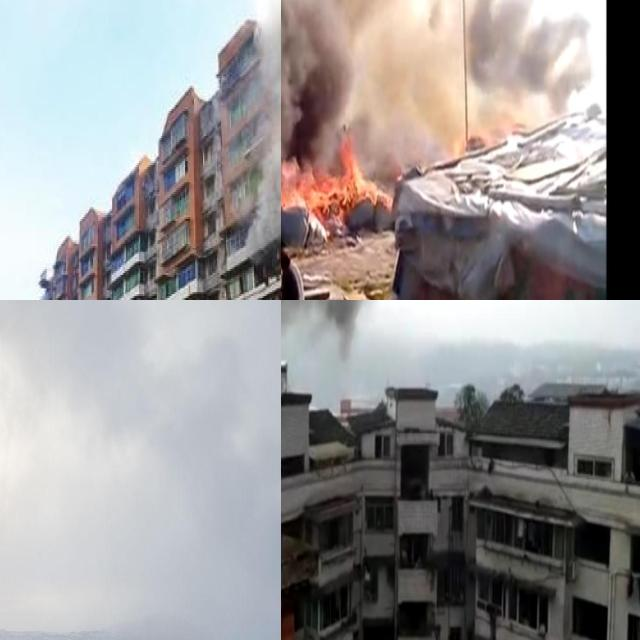fire: (281, 141, 393, 250)
smoke: (281, 0, 418, 140), (281, 300, 403, 457), (463, 0, 586, 122), (250, 0, 281, 236)
